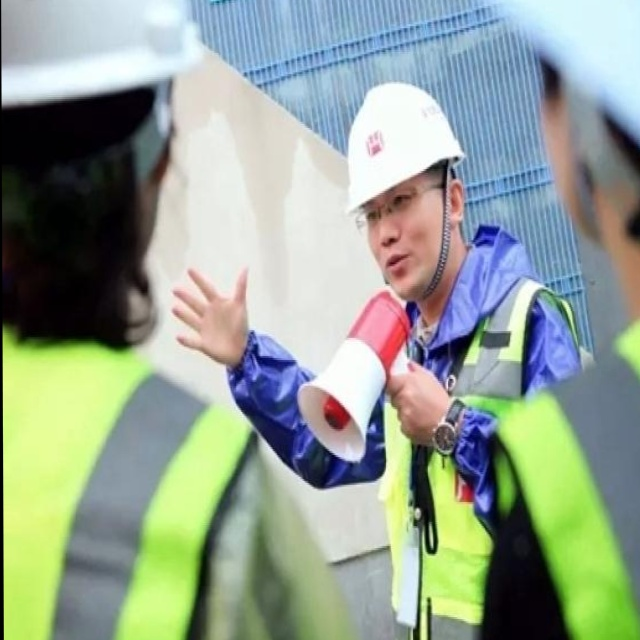Con_Casco: (341, 80, 463, 298)
Con_Chaleco: (3, 331, 262, 640), (492, 298, 640, 640)
